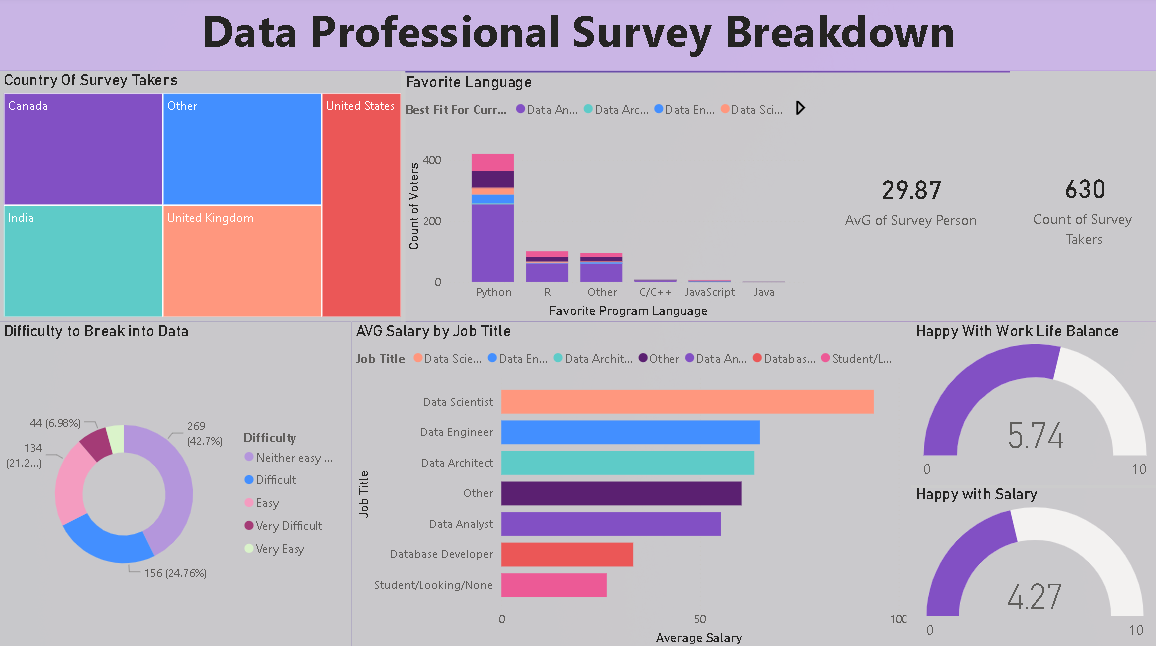

What the dashboard file says about the page in this screenshot:
{"tool":"powerbi","page":{"name":"Page 1","canvas":[1280,720],"ordinal":0},"visuals":[{"type":"textbox","box":[0,0,1280.5,82.8],"z":0},{"type":"card","fields":{"Values":["Count(Data Professional Survey.Unique ID)"]},"box":[1116.5,82.8,164,276.6],"z":1000},{"type":"card","fields":{"Values":["Avg(Data Professional Survey.Q10 - Current Age)"]},"box":[897.8,84.5,218.7,275],"z":2000},{"type":"barChart","title":"AVG Salary by Job Title","fields":{"Category":["Data Professional Survey.Q1 - Which Title Best Fits your Current Role?.1"],"Y":["Avg(Data Professional Survey.Avg Salary)"],"Series":["Data Professional Survey.Q1 - Which Title Best Fits your Current Role?.1"]},"box":[389.3,359.5,617.9,361.1],"z":3000},{"type":"columnChart","title":"Favorite Language","fields":{"Category":["Data Professional Survey.Q5 - Favorite Programming Language.1"],"Y":["CountNonNull(Data Professional Survey.Unique ID)"],"Series":["Data Professional Survey.Q1 - Which Title Best Fits your Current Role?.1"]},"box":[443.9,84.5,453.9,275],"z":4000},{"type":"treemap","title":"Country Of Survey Takers","fields":{"Group":["Data Professional Survey.Q11 - Which Country do you live in?.1"],"Values":["Count(Data Professional Survey.Q11 - Which Country do you live in?.1)"]},"box":[0,82.8,448.9,276.6],"z":4001},{"type":"gauge","title":"Happy With Work Life Balance","fields":{"Y":["Avg(Data Professional Survey.Q6 - How Happy are you in your Current Position with the following? (Work/Life Balance))"],"MinValue":["Min(Data Professional Survey.Q6 - How Happy are you in your Current Position with the following? (Work/Life Balance))1"],"MaxValue":["Max(Data Professional Survey.Q6 - How Happy are you in your Current Position with the following? (Work/Life Balance))"]},"box":[1007.1,359.5,273.3,183.9],"z":4002},{"type":"gauge","title":"Happy with Salary","fields":{"Y":["Avg(Data Professional Survey.Q6 - How Happy are you in your Current Position with the following? (Salary))"],"MinValue":["Min(Data Professional Survey.Q6 - How Happy are you in your Current Position with the following? (Salary))"],"MaxValue":["Max(Data Professional Survey.Q6 - How Happy are you in your Current Position with the following? (Salary))"]},"box":[1007.1,540,273.3,180.6],"z":4003},{"type":"donutChart","title":"Difficulty to Break into Data","fields":{"Category":["Data Professional Survey.Q7 - How difficult was it for you to break into Data?"],"Y":["CountNonNull(Data Professional Survey.Q7 - How difficult was it for you to break into Data?)"]},"box":[0,359.5,389.3,361.1],"z":4004}]}

Visuals, with their boxes in screenshot pixels (x1, y1, x2, y2), scaled from the page's 1280x720 canvas onto the 1156x646 screenshot:
textbox: [0,0,1155,74]
card - Count(Data Professional Survey.Unique ID): [1008,74,1155,322]
card - Avg(Data Professional Survey.Q10 - Current Age): [811,76,1008,323]
"AVG Salary by Job Title" barChart: [352,323,910,645]
"Favorite Language" columnChart: [401,76,811,323]
"Country Of Survey Takers" treemap: [0,74,405,322]
"Happy With Work Life Balance" gauge: [910,323,1155,488]
"Happy with Salary" gauge: [910,484,1155,645]
"Difficulty to Break into Data" donutChart: [0,323,352,645]
